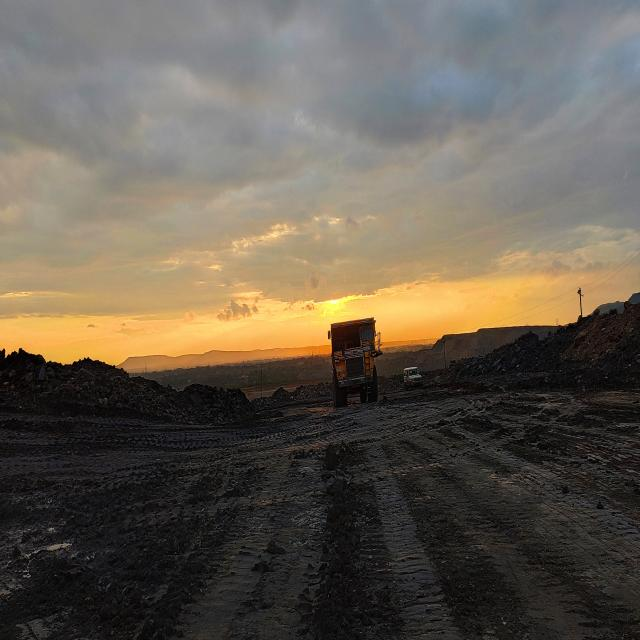dump_truck: (330, 318, 379, 407)
